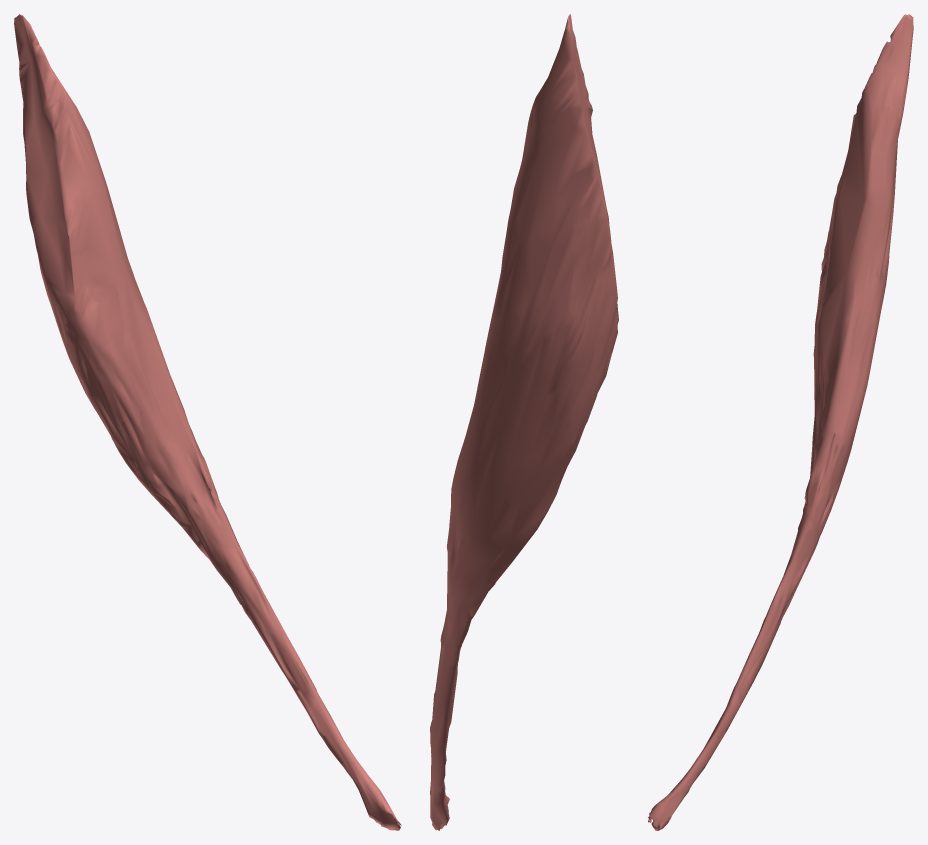
The picture shows the model from 3 angles, left to right: view 1: azimuth 30°, elevation 25°; view 2: azimuth 150°, elevation 25°; view 3: azimuth 270°, elevation 25°; orthographic projection. The views are drawn at different scales.
Parts seen in each view (by area): view 1: ZA_ee25387a1624f448; view 2: ZA_ee25387a1624f448; view 3: ZA_ee25387a1624f448.
Boxes of the visible parts, box(x1,y1,x2,y2) form: ZA_ee25387a1624f448: box(14, 14, 401, 830); ZA_ee25387a1624f448: box(430, 14, 618, 830); ZA_ee25387a1624f448: box(648, 14, 913, 830).
Size of the model in its own units: 0.064 by 0.1878 by 0.0638.
